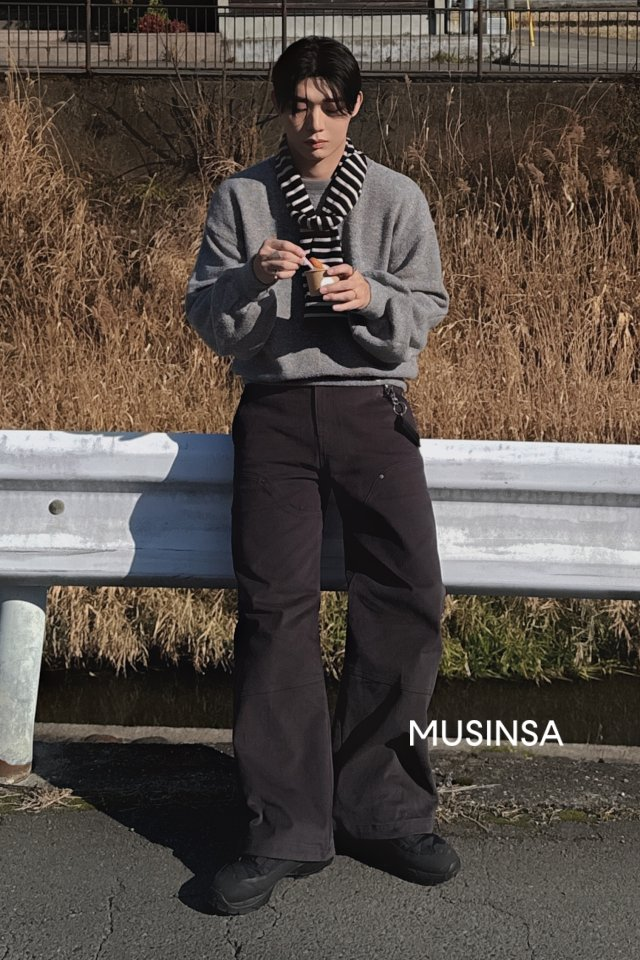Muffler: (268, 137, 366, 323)
Pants: (219, 380, 453, 861)
Shoes: (201, 811, 467, 919)
Top: (181, 153, 460, 396)
